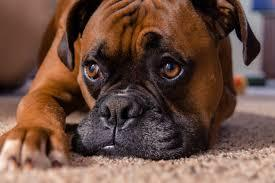Dog: (62, 0, 258, 156)
